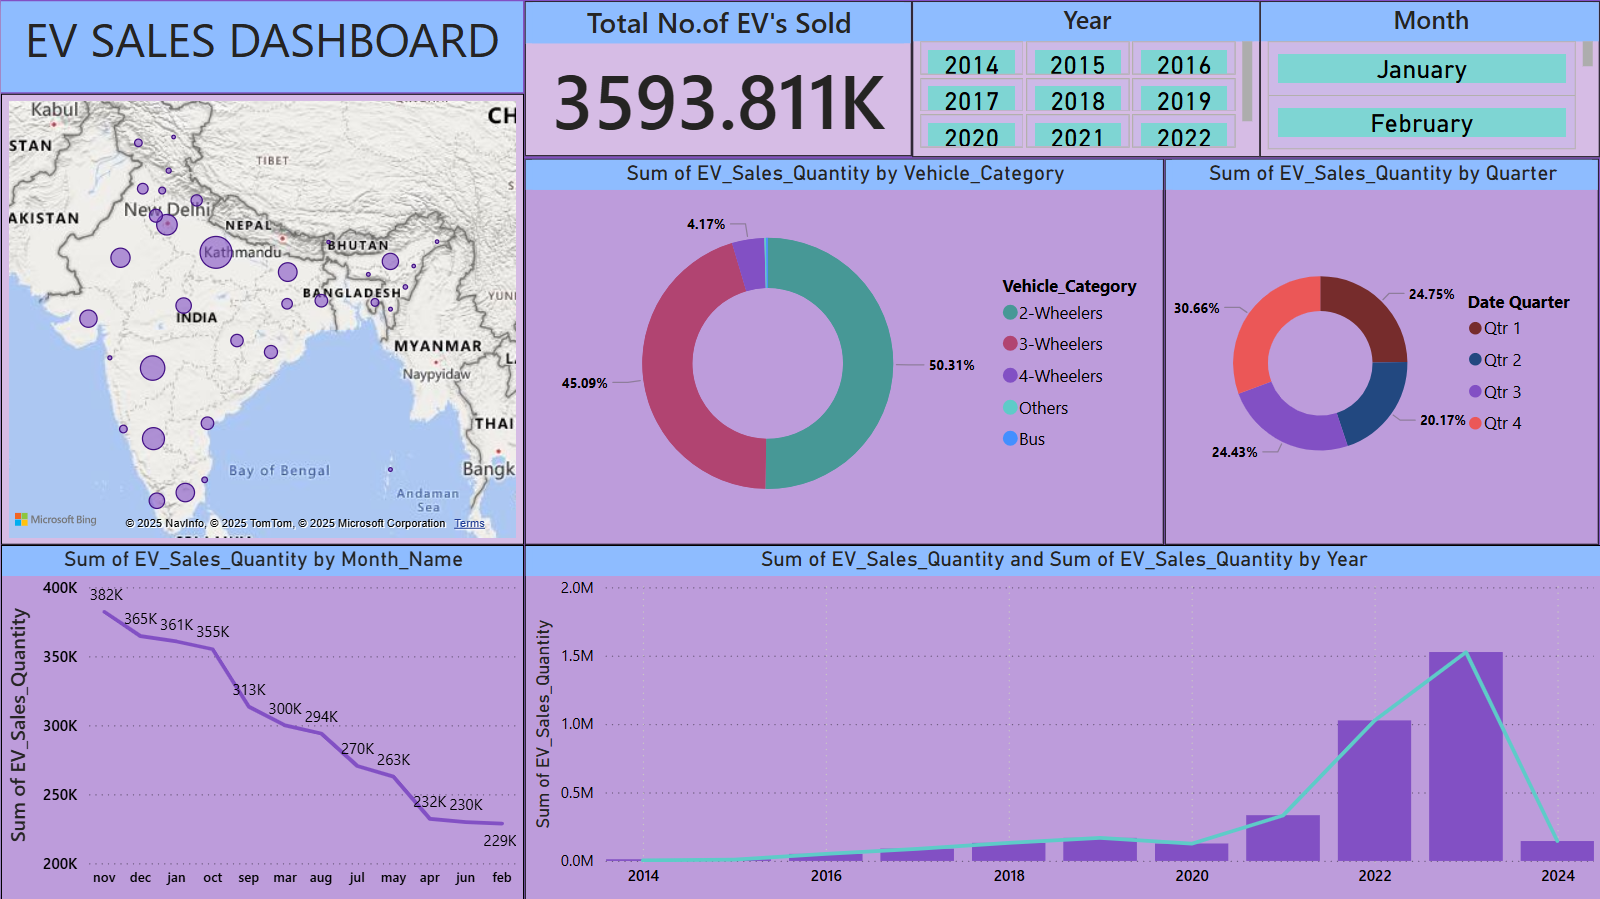

This screenshot's page, from the dashboard's own definition file:
{"tool":"powerbi","page":{"name":"Page 1","canvas":[1280,720],"ordinal":0},"visuals":[{"type":"card","title":"Total No.of EV''s Sold","fields":{"Values":["Sum(ev.EV_Sales_Quantity)"]},"box":[419,1,309,124],"z":0},{"type":"lineStackedColumnComboChart","fields":{"Y":["Sum(ev.EV_Sales_Quantity)"],"Category":["ev.Date.Variation.Date Hierarchy.Year"],"Y2":["Sum(ev.EV_Sales_Quantity)"]},"box":[418.9,435.6,861.1,284.4],"z":1000},{"type":"donutChart","fields":{"Y":["Sum(ev.EV_Sales_Quantity)"],"Category":["ev.Date.Variation.Date Hierarchy.Quarter"]},"box":[931.1,126.7,346.7,308.9],"z":2000},{"type":"donutChart","fields":{"Y":["Sum(ev.EV_Sales_Quantity)"],"Category":["ev.Vehicle_Category"]},"box":[418.9,126.7,511.1,308.9],"z":3000},{"type":"textbox","box":[0,1.2,417,72.5],"z":4000},{"type":"map","fields":{"Size":["Sum(ev.EV_Sales_Quantity)"],"Category":["ev.State"]},"box":[0,75,418,361],"z":5000},{"type":"advancedSlicerVisual","fields":{"Values":["ev.Date.Variation.Date Hierarchy.Year"]},"box":[728.6,1.4,278.6,124.3],"z":6000},{"type":"advancedSlicerVisual","fields":{"Values":["ev.Date.Variation.Date Hierarchy.Month"]},"box":[1007.1,1.4,271.4,124.3],"z":7000},{"type":"lineChart","fields":{"Category":["ev.Month_Name"],"Y":["Sum(ev.EV_Sales_Quantity)","select"]},"box":[0,436,418,284],"z":8000}]}

Visuals, with their boxes in screenshot pixels (x1, y1, x2, y2), scaled from the page's 1280x720 canvas onto the 1600x899 screenshot:
"Total No.of EV''s Sold" card: select_region(524, 1, 910, 156)
lineStackedColumnComboChart - Sum(ev.EV_Sales_Quantity) x ev.Date.Variation.Date Hierarchy.Year: select_region(524, 544, 1599, 898)
donutChart - Sum(ev.EV_Sales_Quantity) x ev.Date.Variation.Date Hierarchy.Quarter: select_region(1164, 158, 1597, 544)
donutChart - Sum(ev.EV_Sales_Quantity) x ev.Vehicle_Category: select_region(524, 158, 1162, 544)
textbox: select_region(0, 1, 521, 92)
map - Sum(ev.EV_Sales_Quantity) x ev.State: select_region(0, 94, 522, 544)
advancedSlicerVisual - ev.Date.Variation.Date Hierarchy.Year: select_region(911, 2, 1259, 157)
advancedSlicerVisual - ev.Date.Variation.Date Hierarchy.Month: select_region(1259, 2, 1598, 157)
lineChart - ev.Month_Name x Sum(ev.EV_Sales_Quantity): select_region(0, 544, 522, 898)
